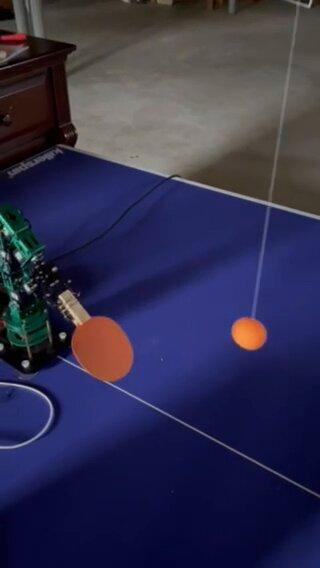oball: (232, 315, 266, 351)
